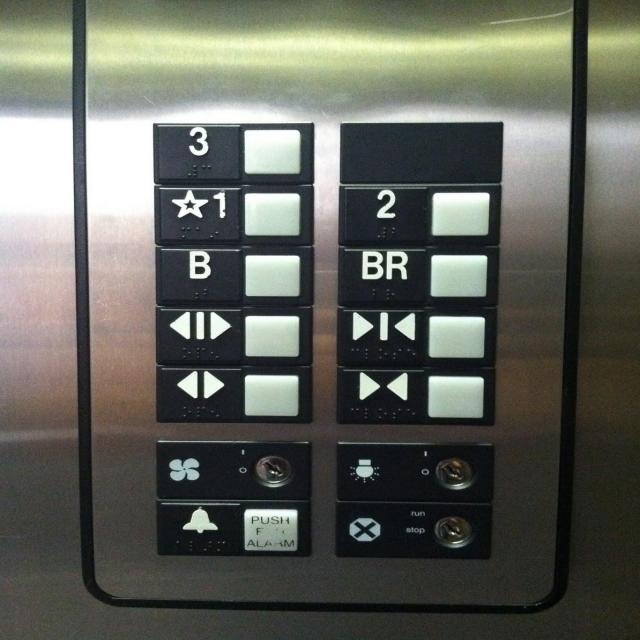2: (333, 180, 505, 250)
3: (144, 119, 320, 190)
B: (149, 242, 317, 310)
BR: (333, 241, 504, 311)
alarm: (152, 496, 315, 560)
close: (332, 301, 504, 371), (330, 363, 500, 428)
fan: (151, 436, 316, 504)
light: (330, 438, 502, 506)
open: (148, 303, 318, 369), (149, 363, 318, 426)
s1: (149, 180, 318, 249)
stop: (328, 497, 496, 562)
